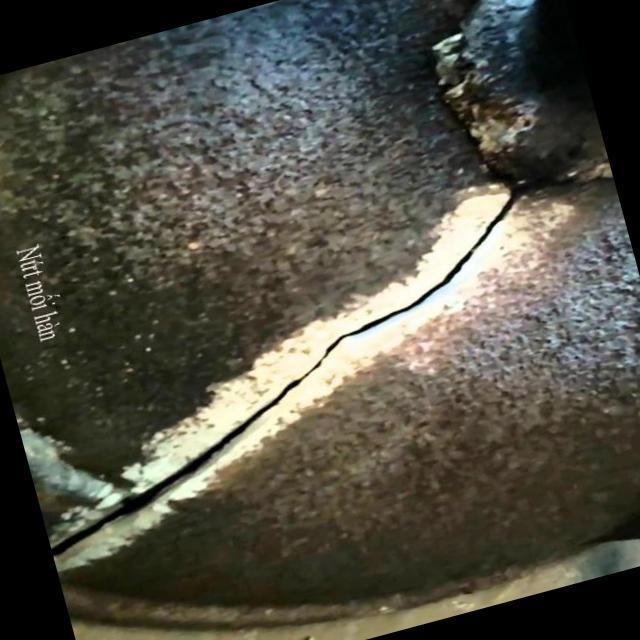defect: (52, 180, 533, 559)
